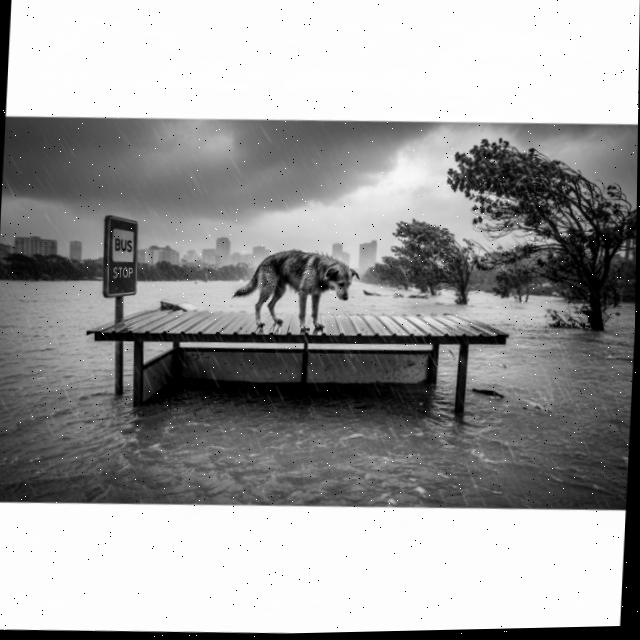dog: (219, 236, 377, 346)
